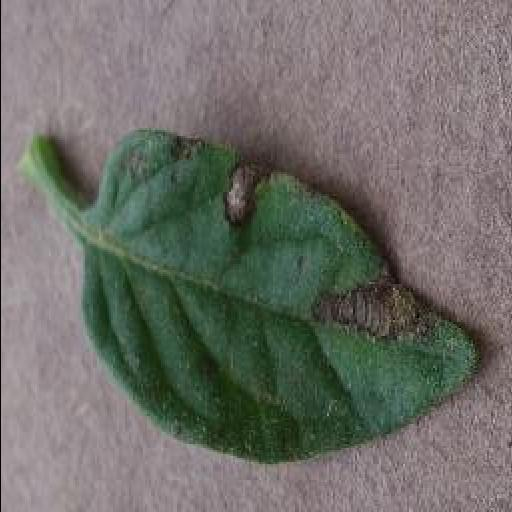disease_tomato: (78, 128, 484, 466)
